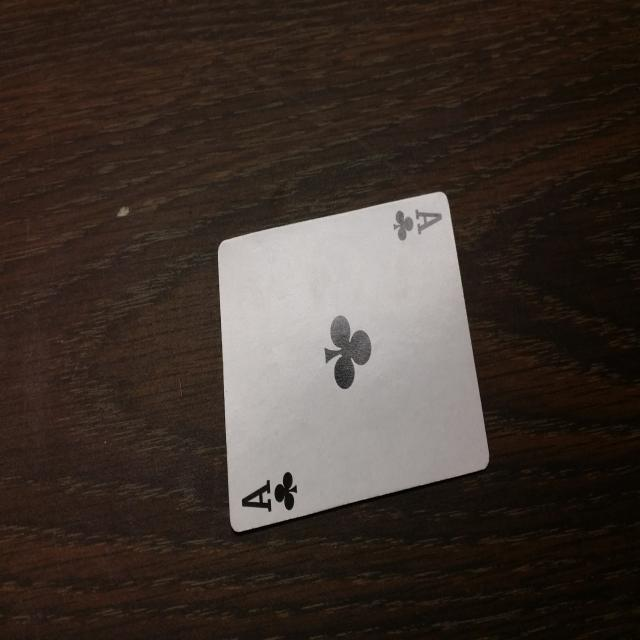Ac: (235, 466, 299, 524), (386, 195, 448, 250)
